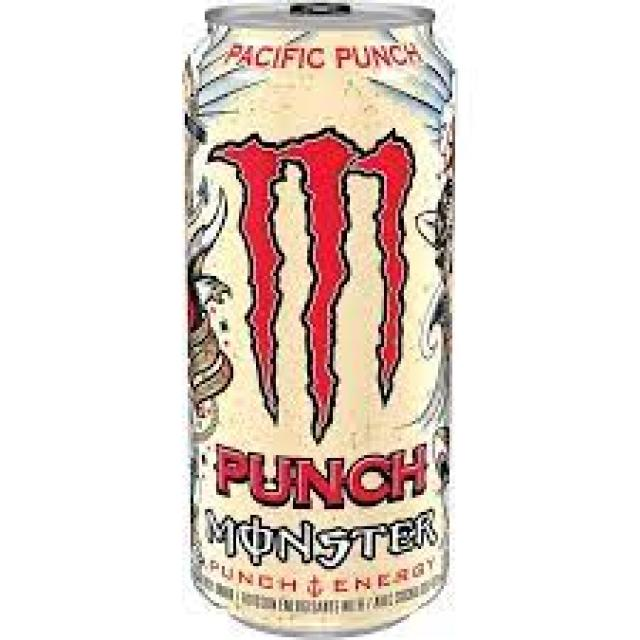Cans: (178, 0, 467, 640)
